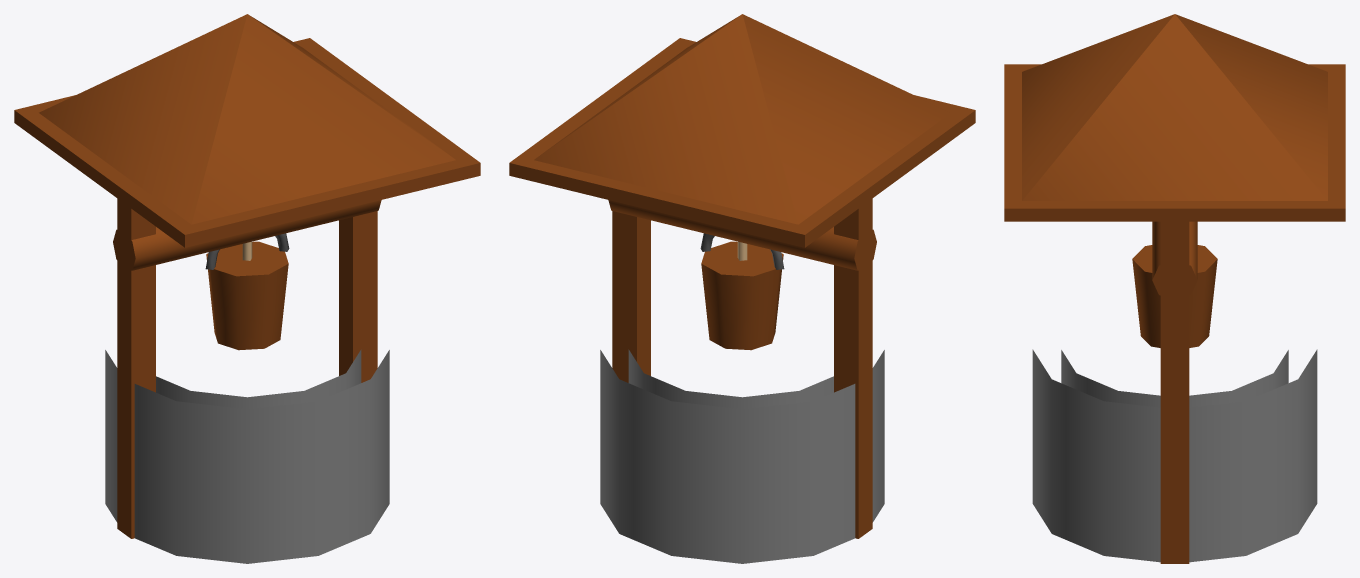
File: waterwell.glb
3 views of the same model, side by side, from view 1: azimuth 30°, elevation 25°; view 2: azimuth 150°, elevation 25°; view 3: azimuth 270°, elevation 25° (orthographic).
Parts seen in each view (by area): view 1: waterwell, bucket_group; view 2: waterwell, bucket_group; view 3: waterwell, bucket_group.
Boxes of the visible parts, x1,y1,x2,y2 form: waterwell: [14, 14, 480, 563]; bucket_group: [205, 233, 289, 350]; waterwell: [509, 14, 975, 563]; bucket_group: [700, 233, 784, 350]; waterwell: [1004, 14, 1345, 563]; bucket_group: [1132, 245, 1217, 347].
Bounding box in the file's own units: 1.2 × 1.9 × 1.2.
